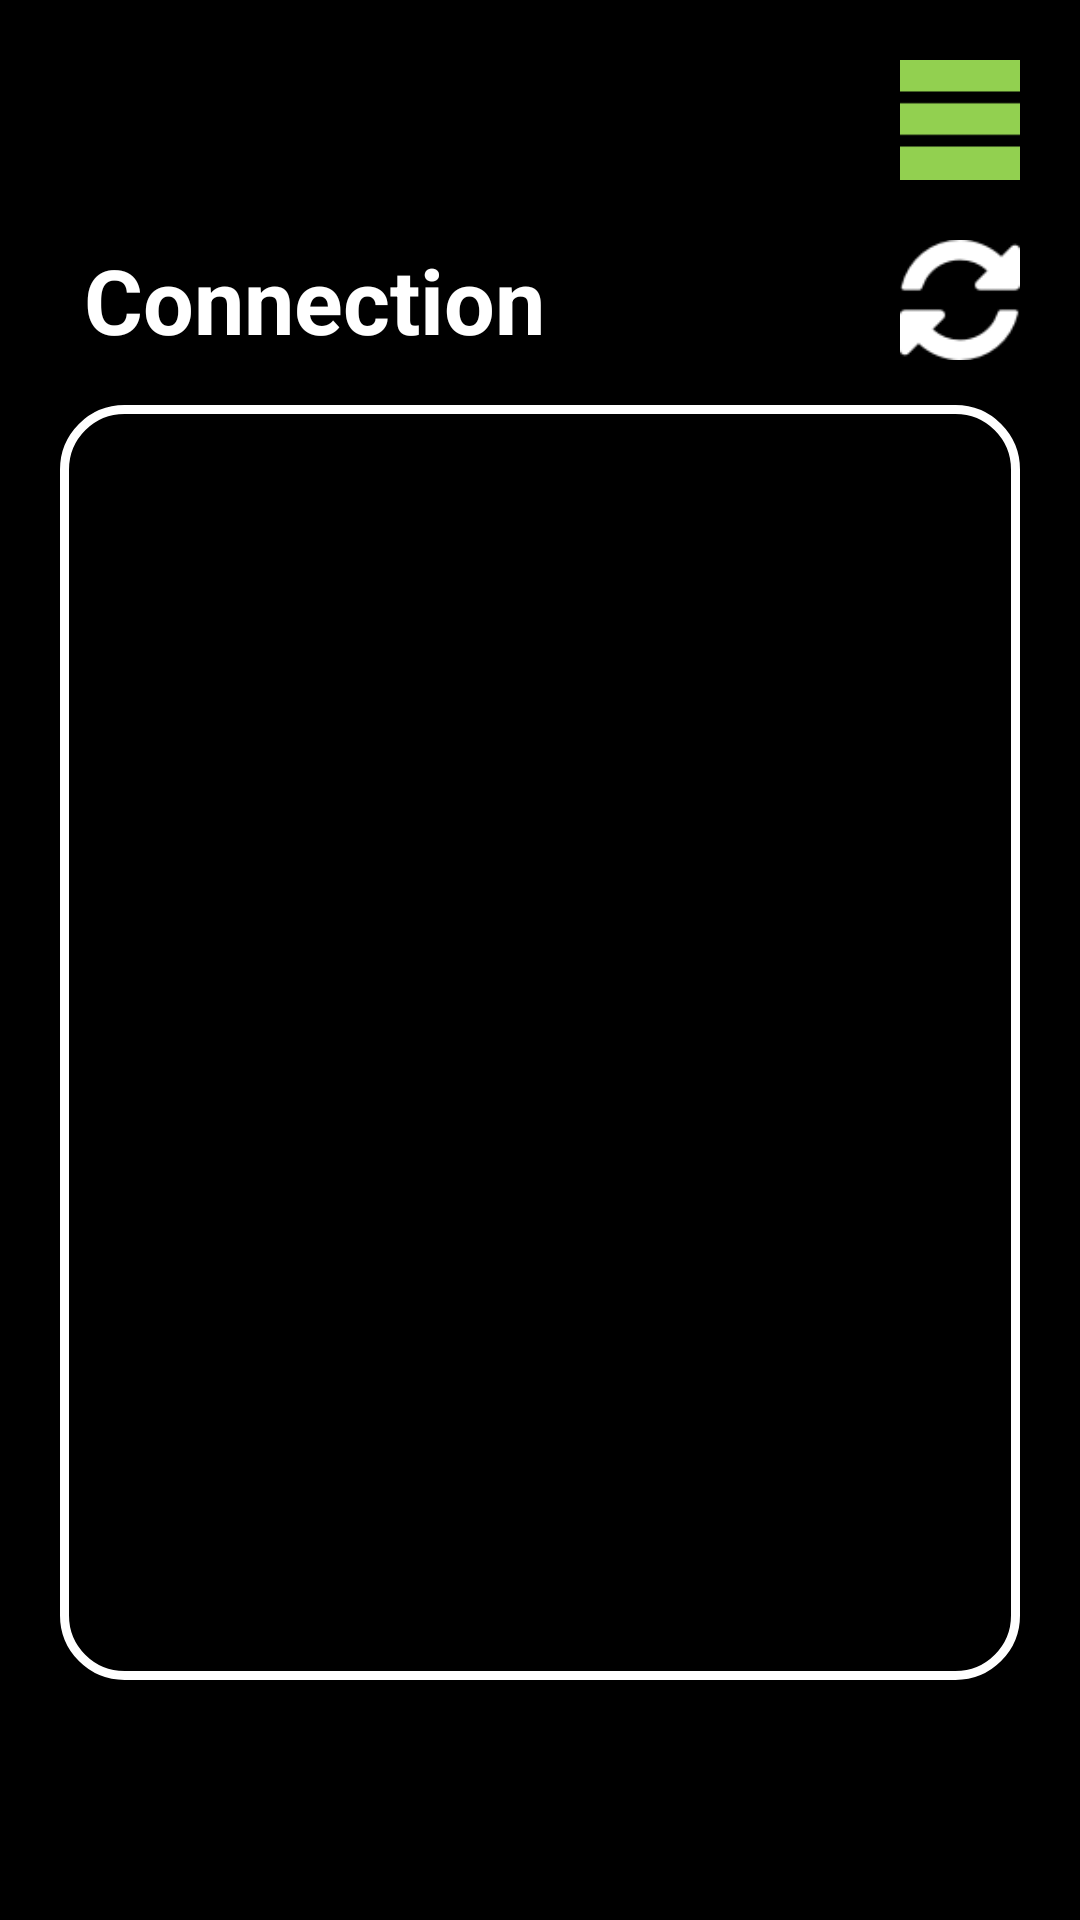

Icons on this 1080 × 1920 Android screen, each with the point to tap as (x,y):
menu: (960,120)
reload: (960,300)
